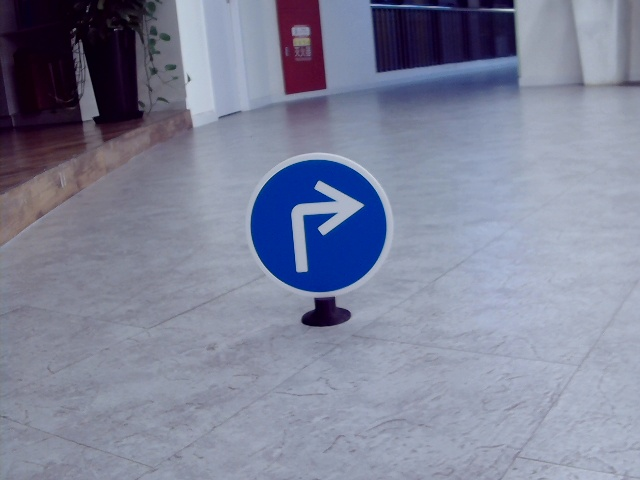turn_right: (283, 179, 362, 277)
